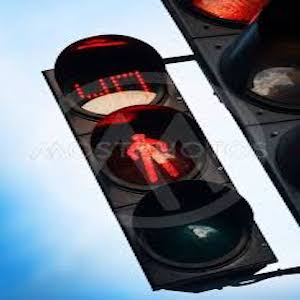red: (116, 130, 184, 183)
